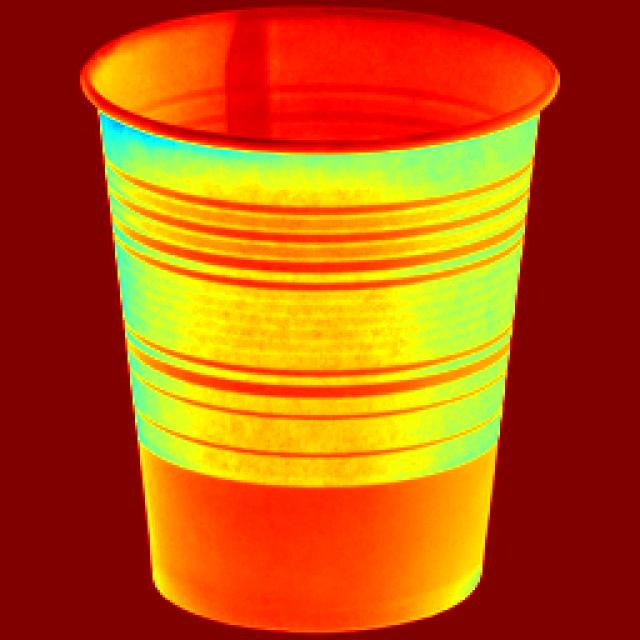Paper Cups: (73, 2, 585, 640)
